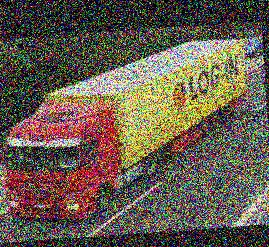truck: (0, 38, 255, 226)
